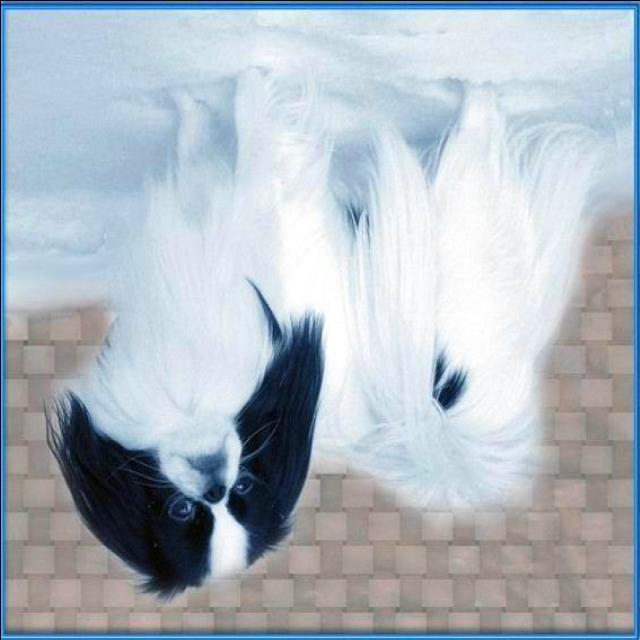husky: (41, 60, 612, 600)
